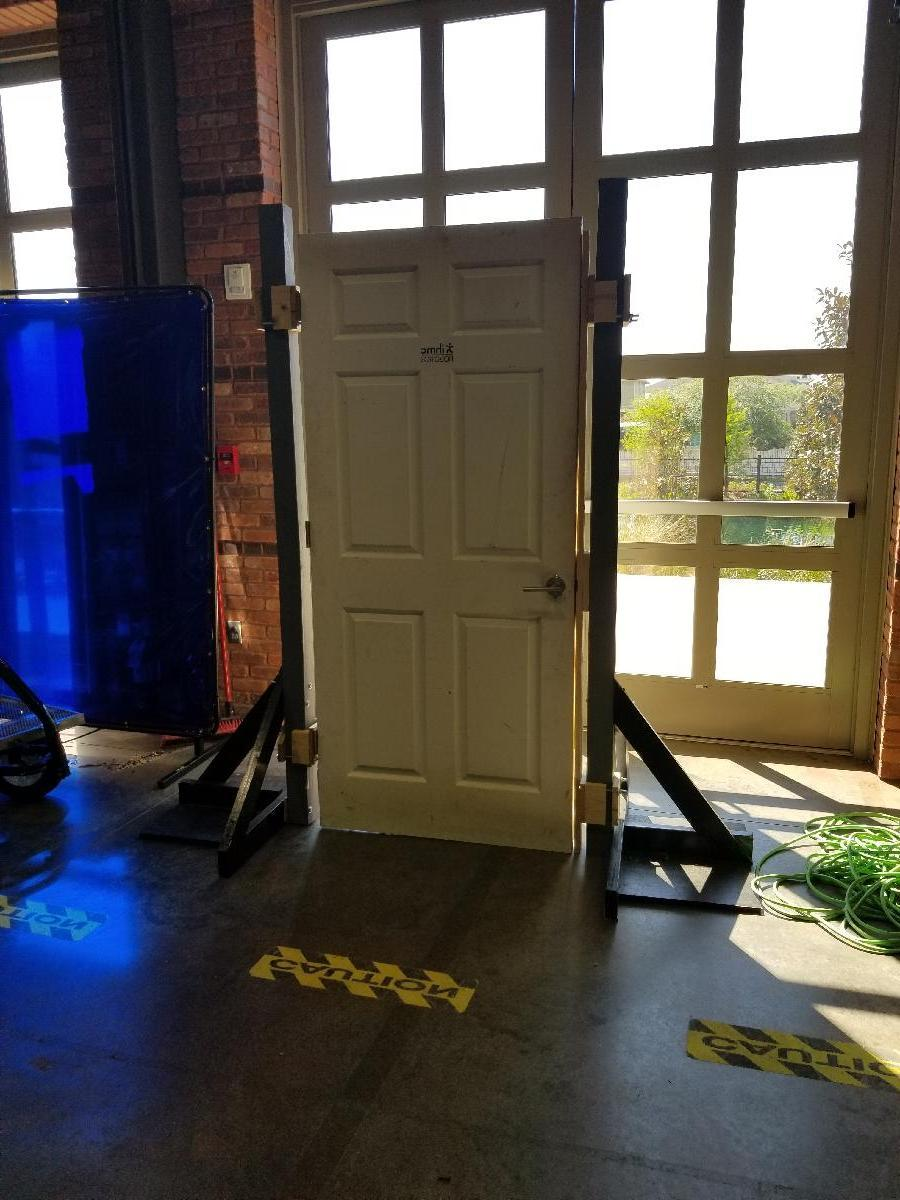door: (310, 216, 584, 843)
handle: (518, 578, 570, 602)
